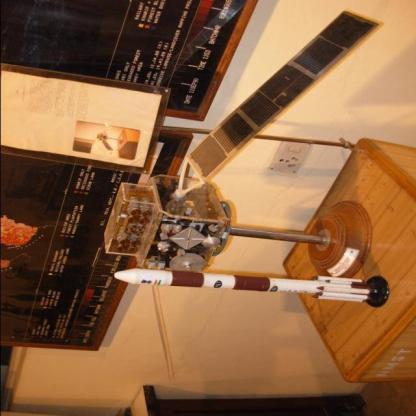MIL_TBM: (104, 268, 335, 295)
